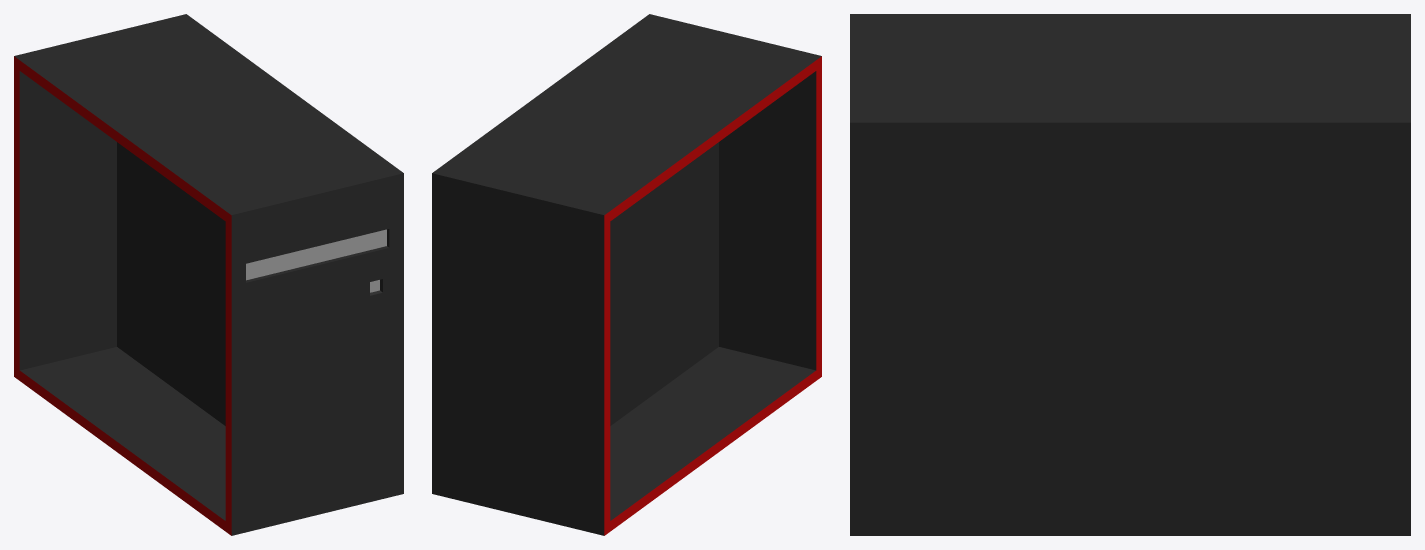
The model's file is Computer_2.fbx.
3 renders of one model, left to right at view 1: azimuth 30°, elevation 25°; view 2: azimuth 150°, elevation 25°; view 3: azimuth 270°, elevation 25°, orthographic. The views are drawn at different scales.
Parts seen in each view (by area): view 1: Computer_2; view 2: Computer_2; view 3: Computer_2.
Part boxes in pixels (box(x1,y1,x2,y2)): Computer_2: box(14, 14, 403, 535); Computer_2: box(432, 14, 821, 535); Computer_2: box(850, 14, 1410, 535).
Size of the model in its own units: 0.179 by 0.318 by 0.391.
